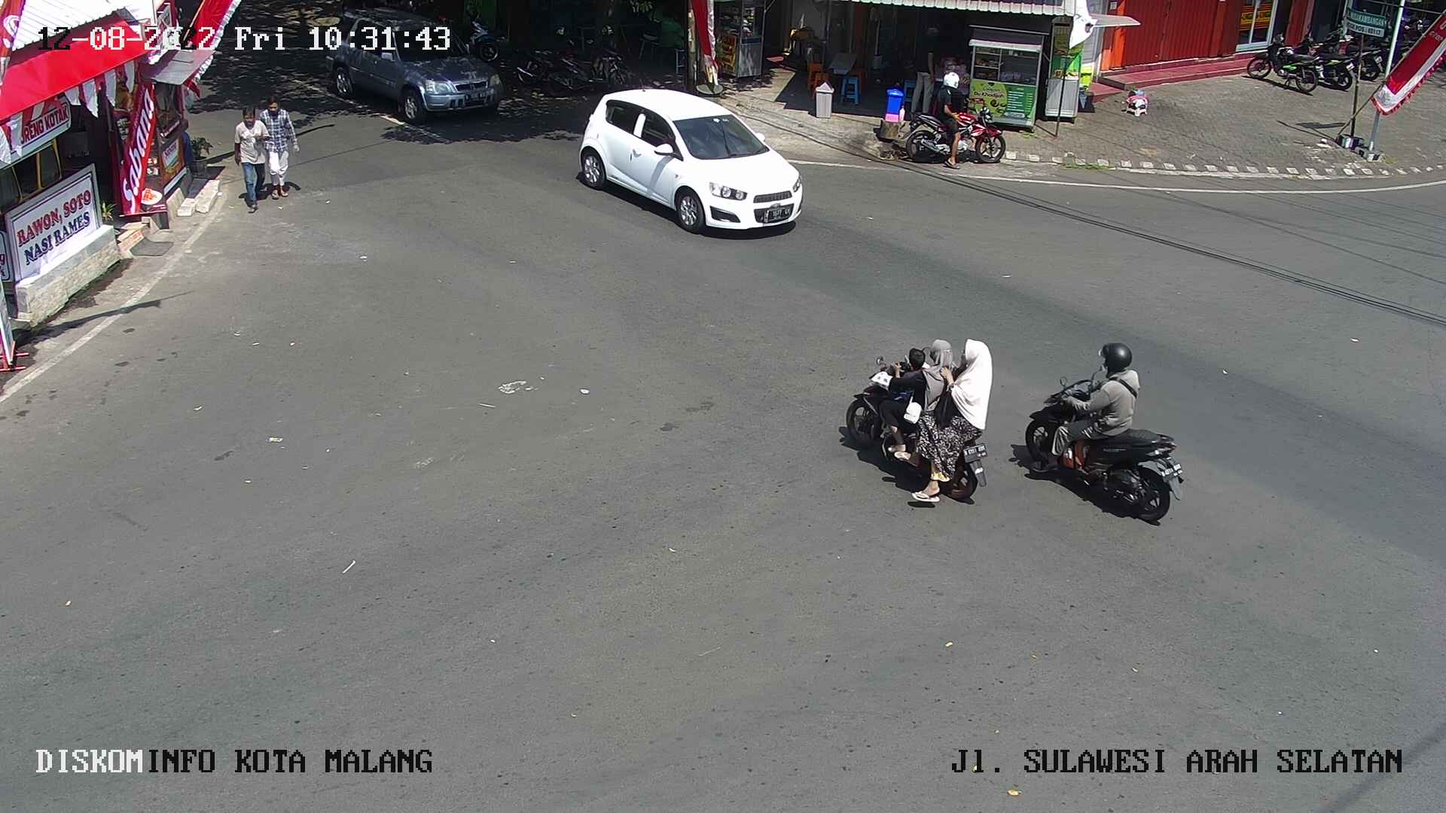with_helmet: (1021, 337, 1194, 535)
without_helmet: (845, 321, 998, 521)
